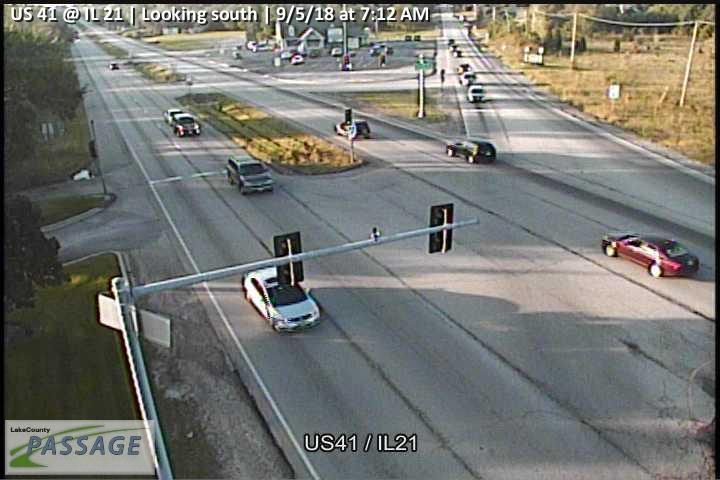SUV: (225, 152, 278, 195), (444, 138, 498, 165), (335, 119, 373, 140), (172, 113, 202, 139), (466, 83, 487, 103), (463, 71, 476, 85)
Sedan: (241, 266, 322, 335), (601, 228, 701, 279), (162, 106, 185, 124), (457, 61, 472, 77), (108, 61, 122, 72)
